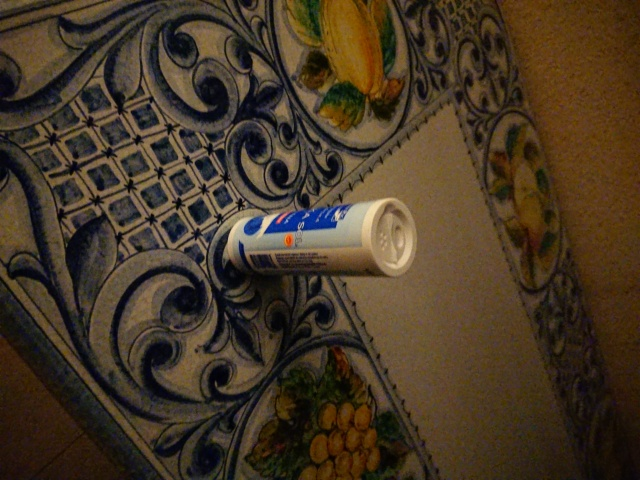Solana Pag Fine Sea Salt 250g: (223, 191, 420, 282)
